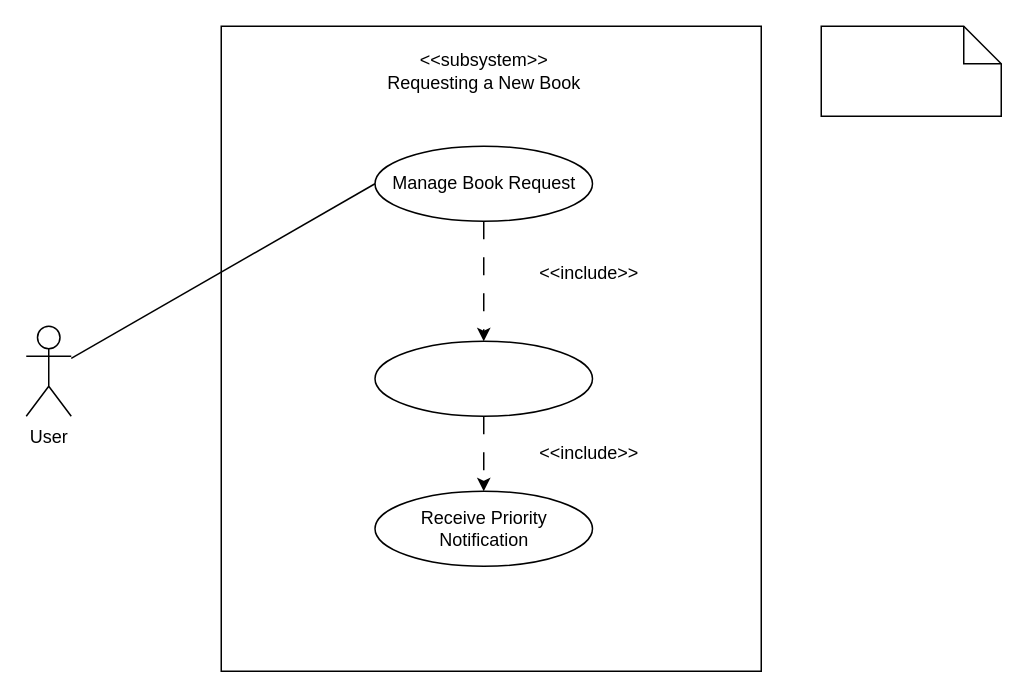
This 1028x698 diagram has some shape labels left out. The shapes that lost their labels are listed below. From the top down, each one's centre as x and y in pixels, then its label:
At [910,70]: "Includes Requirements 9".
At [483,378]: "Manage Item Priority By Request Type".
